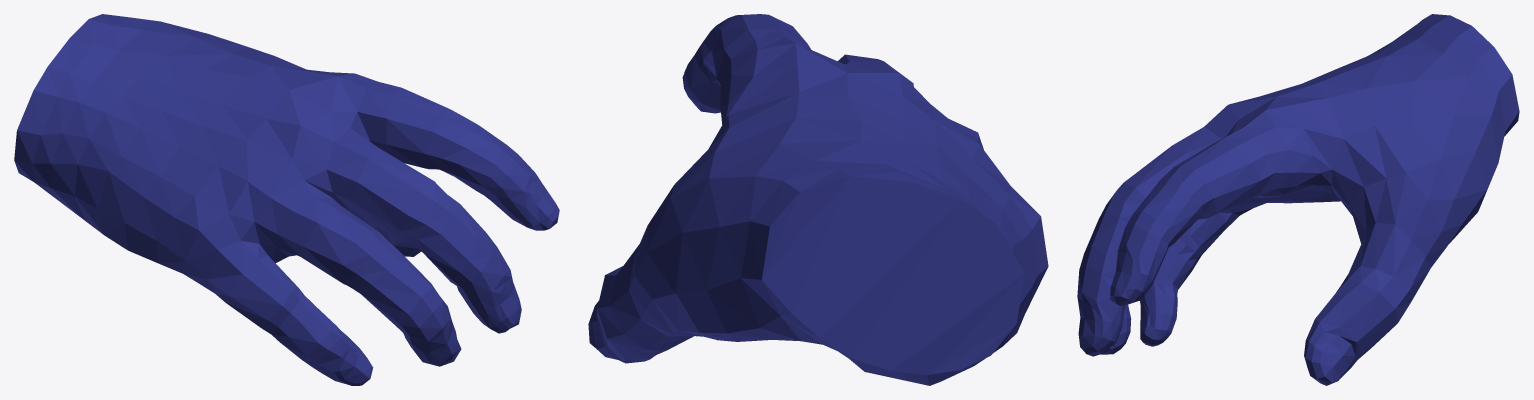
3 views of the same model, side by side, from view 1: azimuth 30°, elevation 25°; view 2: azimuth 150°, elevation 25°; view 3: azimuth 270°, elevation 25° (orthographic). The views are drawn at different scales.
Size of the model in its own units: 0.1485 by 0.0984 by 0.147.
